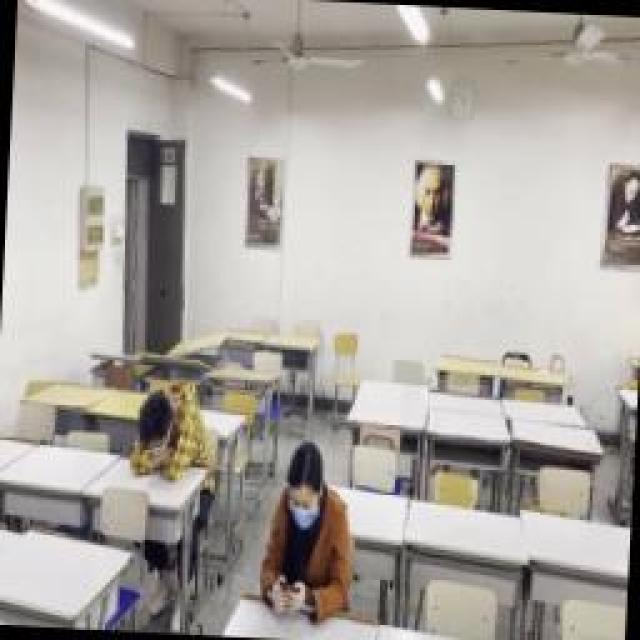phone: (257, 443, 355, 615)
sleep: (128, 375, 210, 483)
